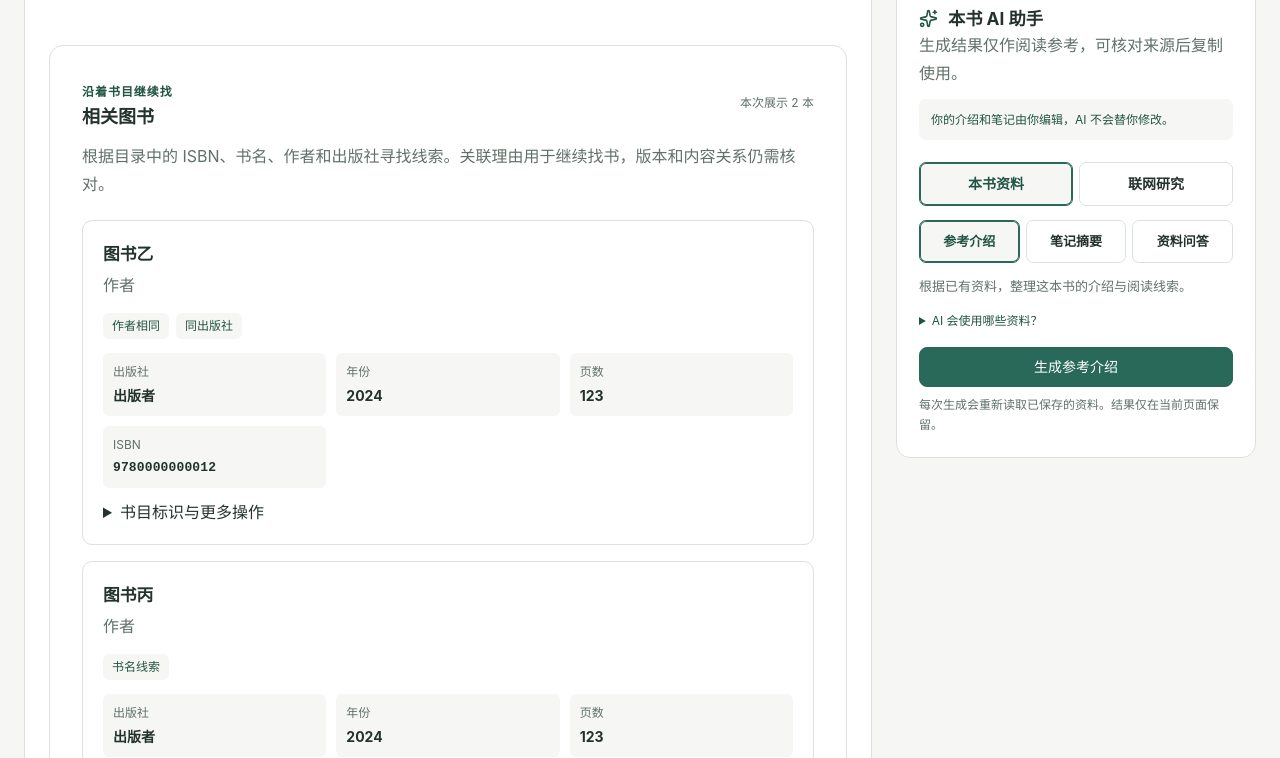
Test: Book-centered related discovery › places directory relation reasons on the matching book link and reports only the displayed count
(page scrolled)
Expected: the text "本次展示 2 本" is shown, top-left (740, 93), bottom-right (814, 113)
Expected: the text "根据目录中的 ISBN、书名、作者和出版社寻找线索。关联理由用于继续找书，版本和内容关系仍需核对。" is shown, top-left (82, 142), bottom-right (814, 198)
Click the link "图书乙 作者 作者相同 同出版社 出版社 出版者 年份 2024 页数 123 ISBN 9780000000012" at (448, 364), box top-left (103, 241), bottom-right (793, 488)
(page scrolled)
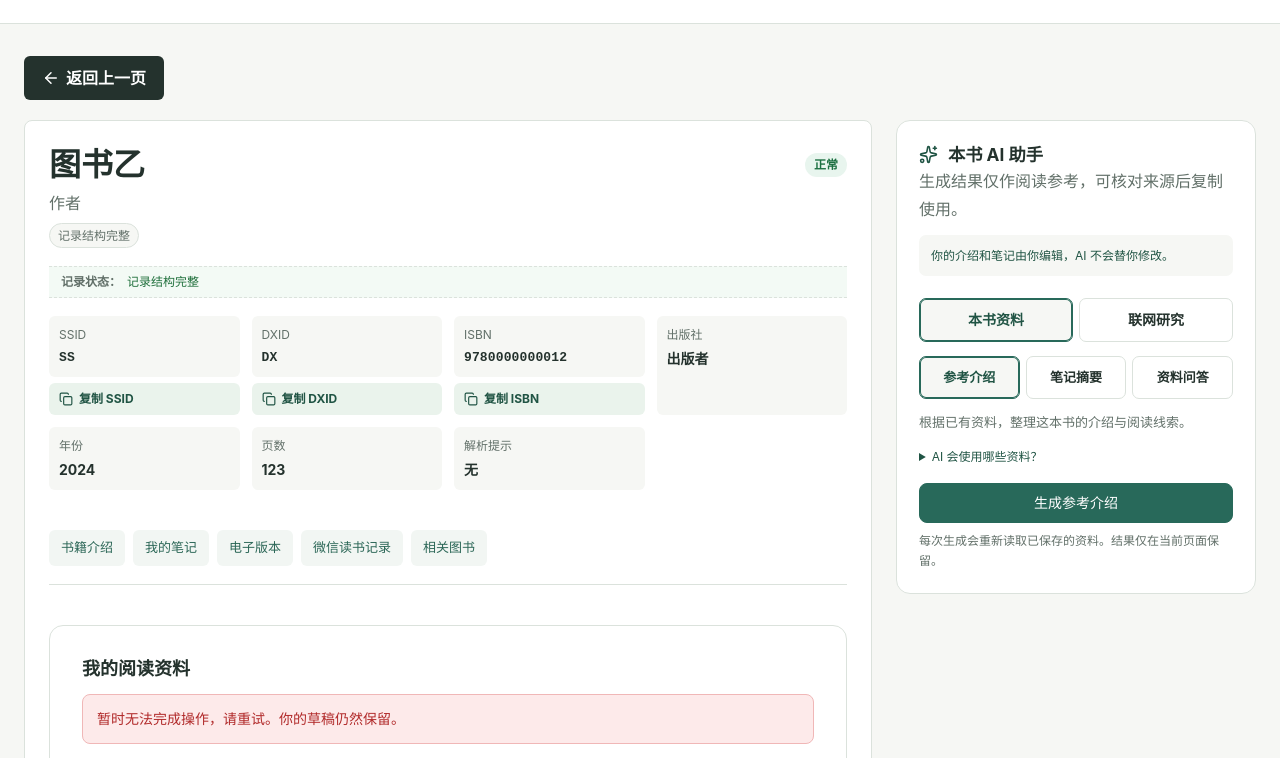
Expected: the heading "图书乙" is shown, top-left (49, 145), bottom-right (145, 185)
